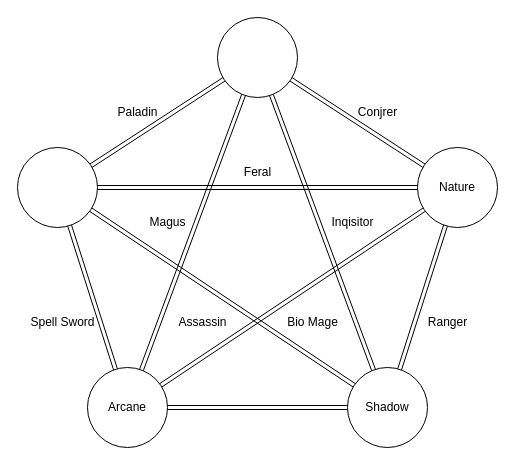
This 515x465 diagram has some shape labels left out. Each missing label, with the centre of its shape:
"Divine" goes at pixel 257 57.
"Martial" goes at pixel 57 187.
